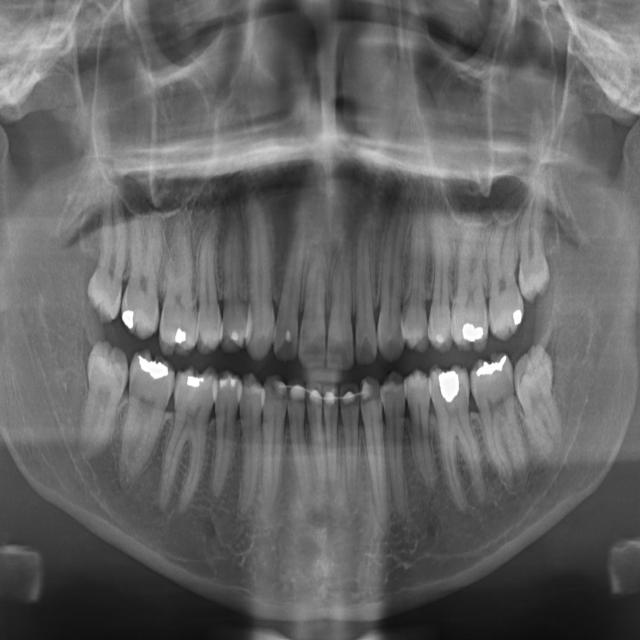AmalgamRestoration: (472, 352, 516, 394), (132, 345, 172, 388), (437, 360, 465, 412), (452, 316, 490, 354), (181, 369, 209, 396), (171, 320, 191, 352), (120, 306, 136, 336), (507, 303, 527, 322)
CompositeResinRestoration: (225, 305, 249, 350), (216, 365, 240, 405), (429, 320, 452, 356), (278, 309, 298, 350)
ImpactedTooth: (70, 333, 133, 456), (516, 327, 564, 460), (516, 168, 562, 301)
